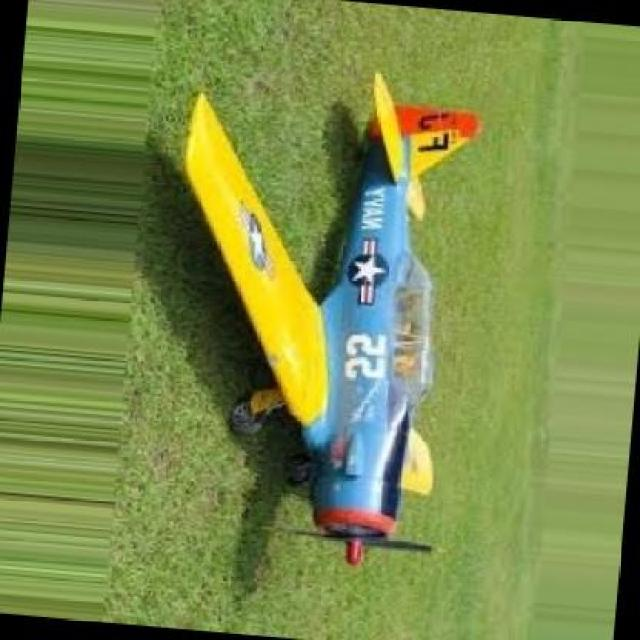iha: (173, 62, 498, 573)
